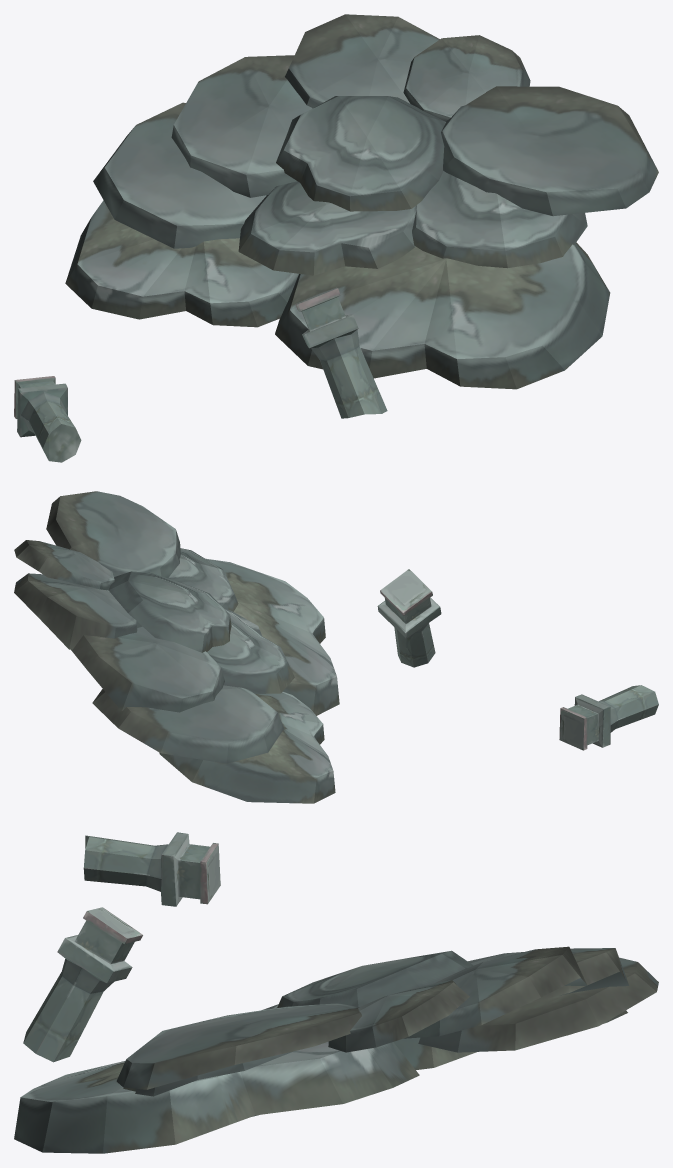
File: boss4_wujian_1.fbx
3 views of the same model, one above another, from view 1: azimuth 30°, elevation 25°; view 2: azimuth 150°, elevation 25°; view 3: azimuth 270°, elevation 25° (orthographic). The views are drawn at different scales.
Visible parts, largest first — view 1: boss4_wujian; view 2: boss4_wujian; view 3: boss4_wujian.
Part boxes in pixels (<box>): boss4_wujian: <box>14,14,658,462</box>; boss4_wujian: <box>14,491,658,803</box>; boss4_wujian: <box>14,832,658,1153</box>.
Bounding box in the file's own units: 2738 × 786 × 2072.
